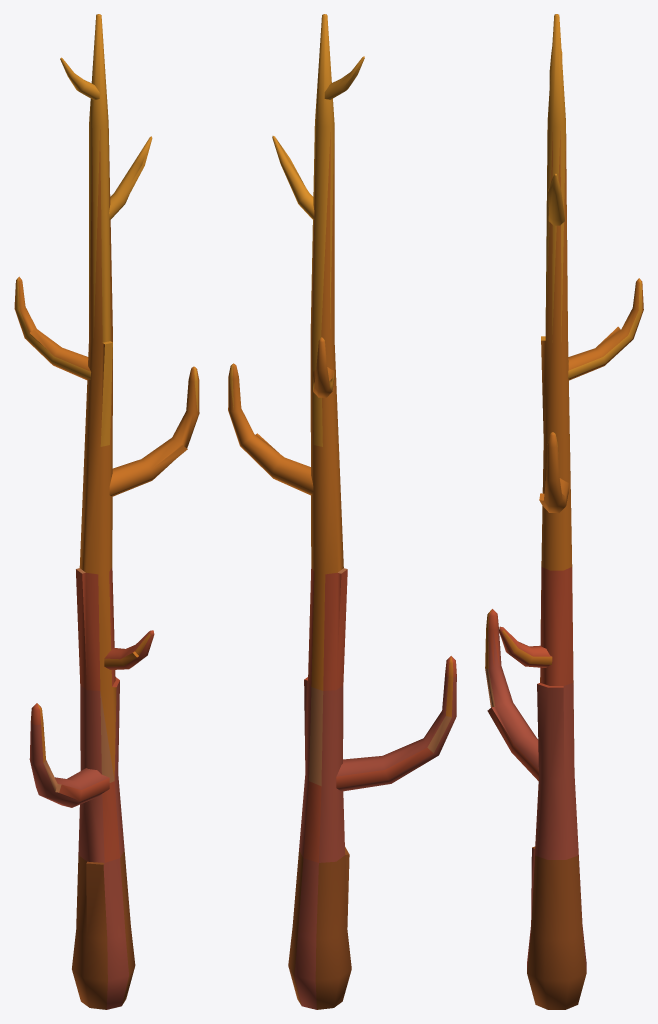
File: itch_kaykit_forest_tree_bare_2_c_color1.glb
The picture shows the model from 3 angles, left to right: view 1: azimuth 30°, elevation 25°; view 2: azimuth 150°, elevation 25°; view 3: azimuth 270°, elevation 25°; orthographic projection.
Parts seen in each view (by area): view 1: Tree_Bare_2_C_Color1; view 2: Tree_Bare_2_C_Color1; view 3: Tree_Bare_2_C_Color1.
Boxes of the visible parts, x1,y1,x2,y2 form: Tree_Bare_2_C_Color1: (14, 14, 199, 1009); Tree_Bare_2_C_Color1: (228, 14, 456, 1009); Tree_Bare_2_C_Color1: (485, 14, 643, 1009).
Size of the model in its own units: 0.6632 by 3.2 by 0.4639.
